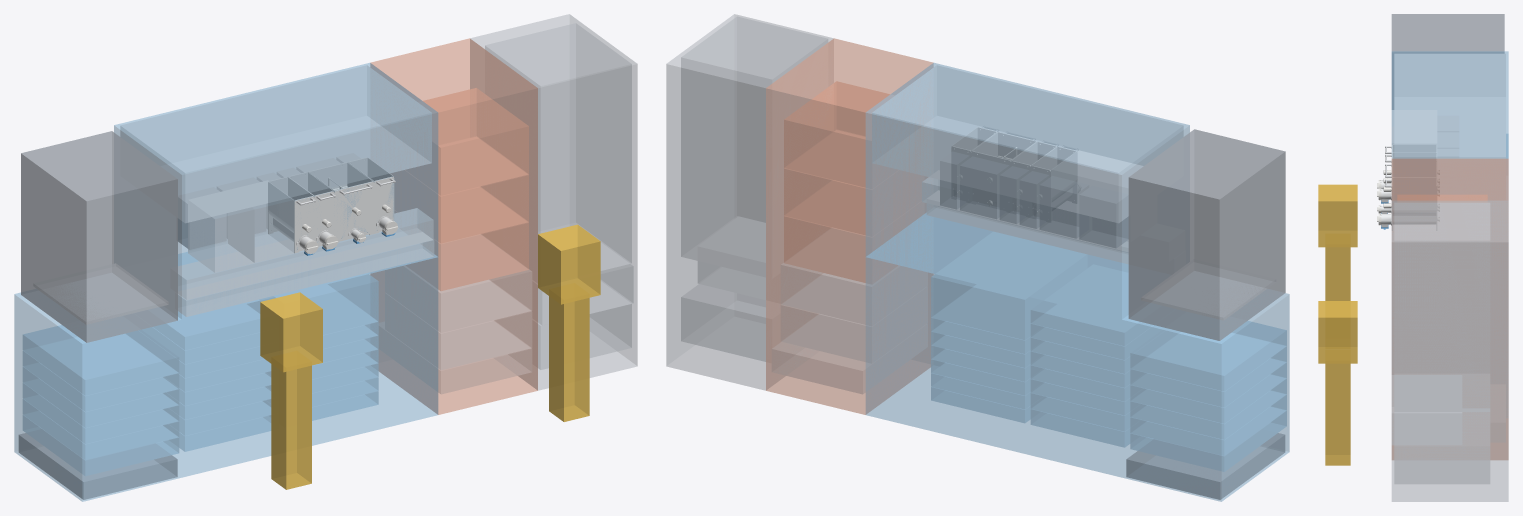
File: hat_v4.glb
3 views of the same model, side by side, from view 1: azimuth 30°, elevation 25°; view 2: azimuth 150°, elevation 25°; view 3: azimuth 270°, elevation 25° (orthographic). The views are drawn at different scales.
Parts seen in each view (by area): view 1: B_KABIN, TOPPING_KABIN, D_KABIN, E_KABIN, TOPPING_SOG, PRESS, E_SARJOR, FIRIN_3, CEK_K1_hamur_6, TOPPING_BAS, B_SOGUTMA, ROBOT_2 (+39 smaller); view 2: B_KABIN, TOPPING_KABIN, D_KABIN, E_KABIN, TOPPING_SOG, PRESS, E_SARJOR, FIRIN_3, CEK_K1_hamur_6, B_SOGUTMA, E_MEK, PRESS_PLAKA (+38 smaller); view 3: E_KABIN, E_SARJOR, TOPPING_KABIN, TOPPING_SOG, D_KABIN, PRESS, E_MEK, ROBOT_2, ROBOT_1_KOL, ROBOT_2_KOL, E_AGZ, KASET_SUCUK__cam (+7 smaller).
Boxes of the visible parts, left/top/right/bottom form: B_KABIN: left=14, top=252, right=438, bottom=501; TOPPING_KABIN: left=114, top=63, right=438, bottom=319; D_KABIN: left=370, top=38, right=537, bottom=414; E_KABIN: left=470, top=14, right=637, bottom=390; TOPPING_SOG: left=120, top=65, right=431, bottom=222; PRESS: left=21, top=131, right=177, bottom=342; E_SARJOR: left=485, top=23, right=631, bottom=270; FIRIN_3: left=423, top=88, right=528, bottom=195; CEK_K1_hamur_6: left=23, top=325, right=178, bottom=395; TOPPING_BAS: left=178, top=208, right=433, bottom=299; B_SOGUTMA: left=18, top=429, right=177, bottom=499; ROBOT_2: left=549, top=283, right=589, bottom=421; B_KABIN: left=865, top=213, right=1289, bottom=501; TOPPING_KABIN: left=865, top=63, right=1189, bottom=319; D_KABIN: left=766, top=38, right=933, bottom=414; E_KABIN: left=666, top=14, right=833, bottom=390; TOPPING_SOG: left=872, top=65, right=1183, bottom=222; PRESS: left=1128, top=129, right=1285, bottom=340; E_SARJOR: left=681, top=16, right=827, bottom=277; FIRIN_3: left=784, top=81, right=889, bottom=187; CEK_K1_hamur_6: left=1130, top=321, right=1286, bottom=391; B_SOGUTMA: left=1126, top=429, right=1285, bottom=499; E_MEK: left=681, top=284, right=765, bottom=361; PRESS_PLAKA: left=1141, top=259, right=1275, bottom=320; E_KABIN: left=1391, top=200, right=1508, bottom=501; E_SARJOR: left=1394, top=203, right=1489, bottom=411; TOPPING_KABIN: left=1391, top=51, right=1508, bottom=200; TOPPING_SOG: left=1394, top=54, right=1505, bottom=158; D_KABIN: left=1391, top=158, right=1508, bottom=459; PRESS: left=1391, top=14, right=1504, bottom=109; E_MEK: left=1394, top=412, right=1489, bottom=483; ROBOT_2: left=1325, top=363, right=1350, bottom=465; ROBOT_1_KOL: left=1318, top=184, right=1357, bottom=247; ROBOT_2_KOL: left=1318, top=301, right=1357, bottom=363; E_AGZ: left=1392, top=375, right=1461, bottom=444; KASET_SUCUK__cam: left=1380, top=178, right=1436, bottom=230.
Bounding box in the file's own units: 3.9 × 2.03 × 1.35.
